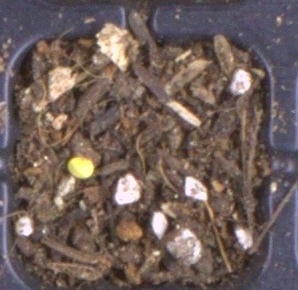chilli seed: (67, 157, 95, 180)
